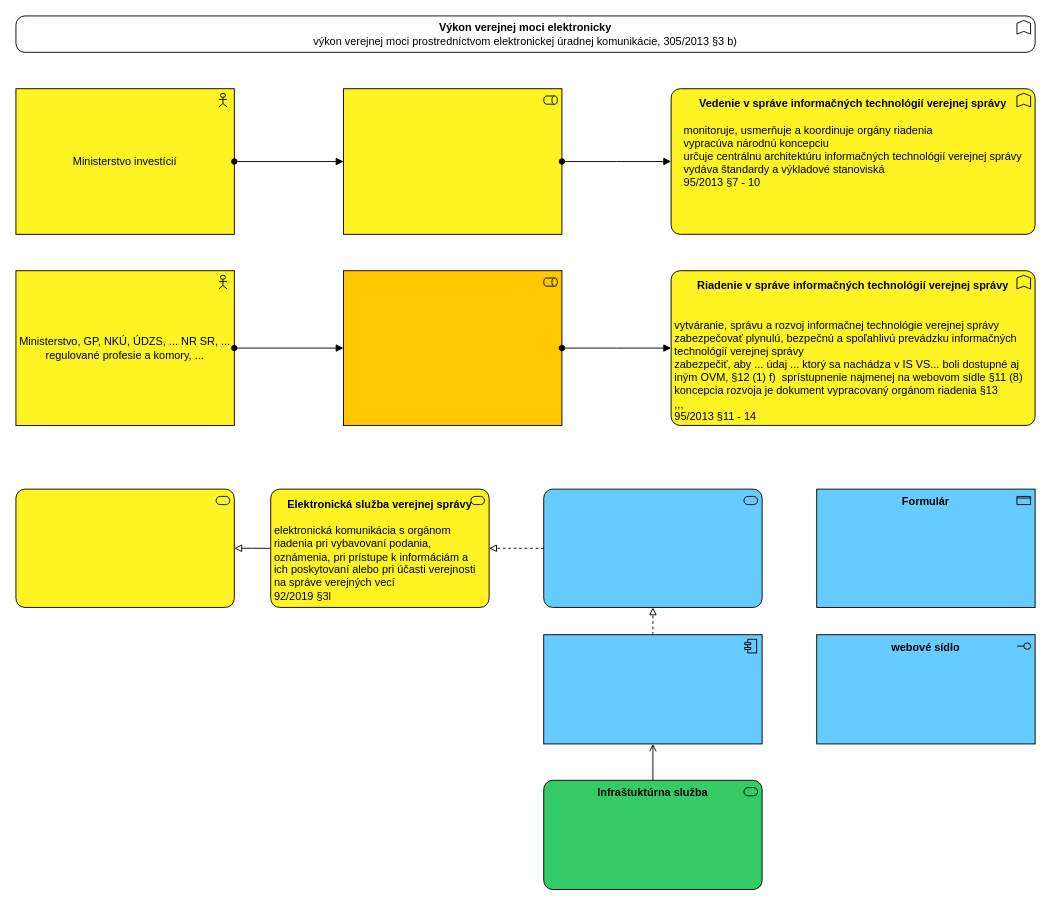
Image size: 1051x905. Some labels were removed from this diagram. The shapes that lost their labels are listed below. From the top down, each one's box as (x1, y1, x2, y2) in pixels, then its label:
(343, 88, 562, 234): Orgán vedenia 95/2019 §5 (1) a)
(343, 270, 562, 425): Orgán riadenia Orgánom riadenia na účely tohto zákona je ... 95/2019 §5 (2)
(15, 488, 234, 607): Služba verejnej správy
(543, 488, 762, 607): Aplikačná služba
(543, 634, 762, 744): IS
